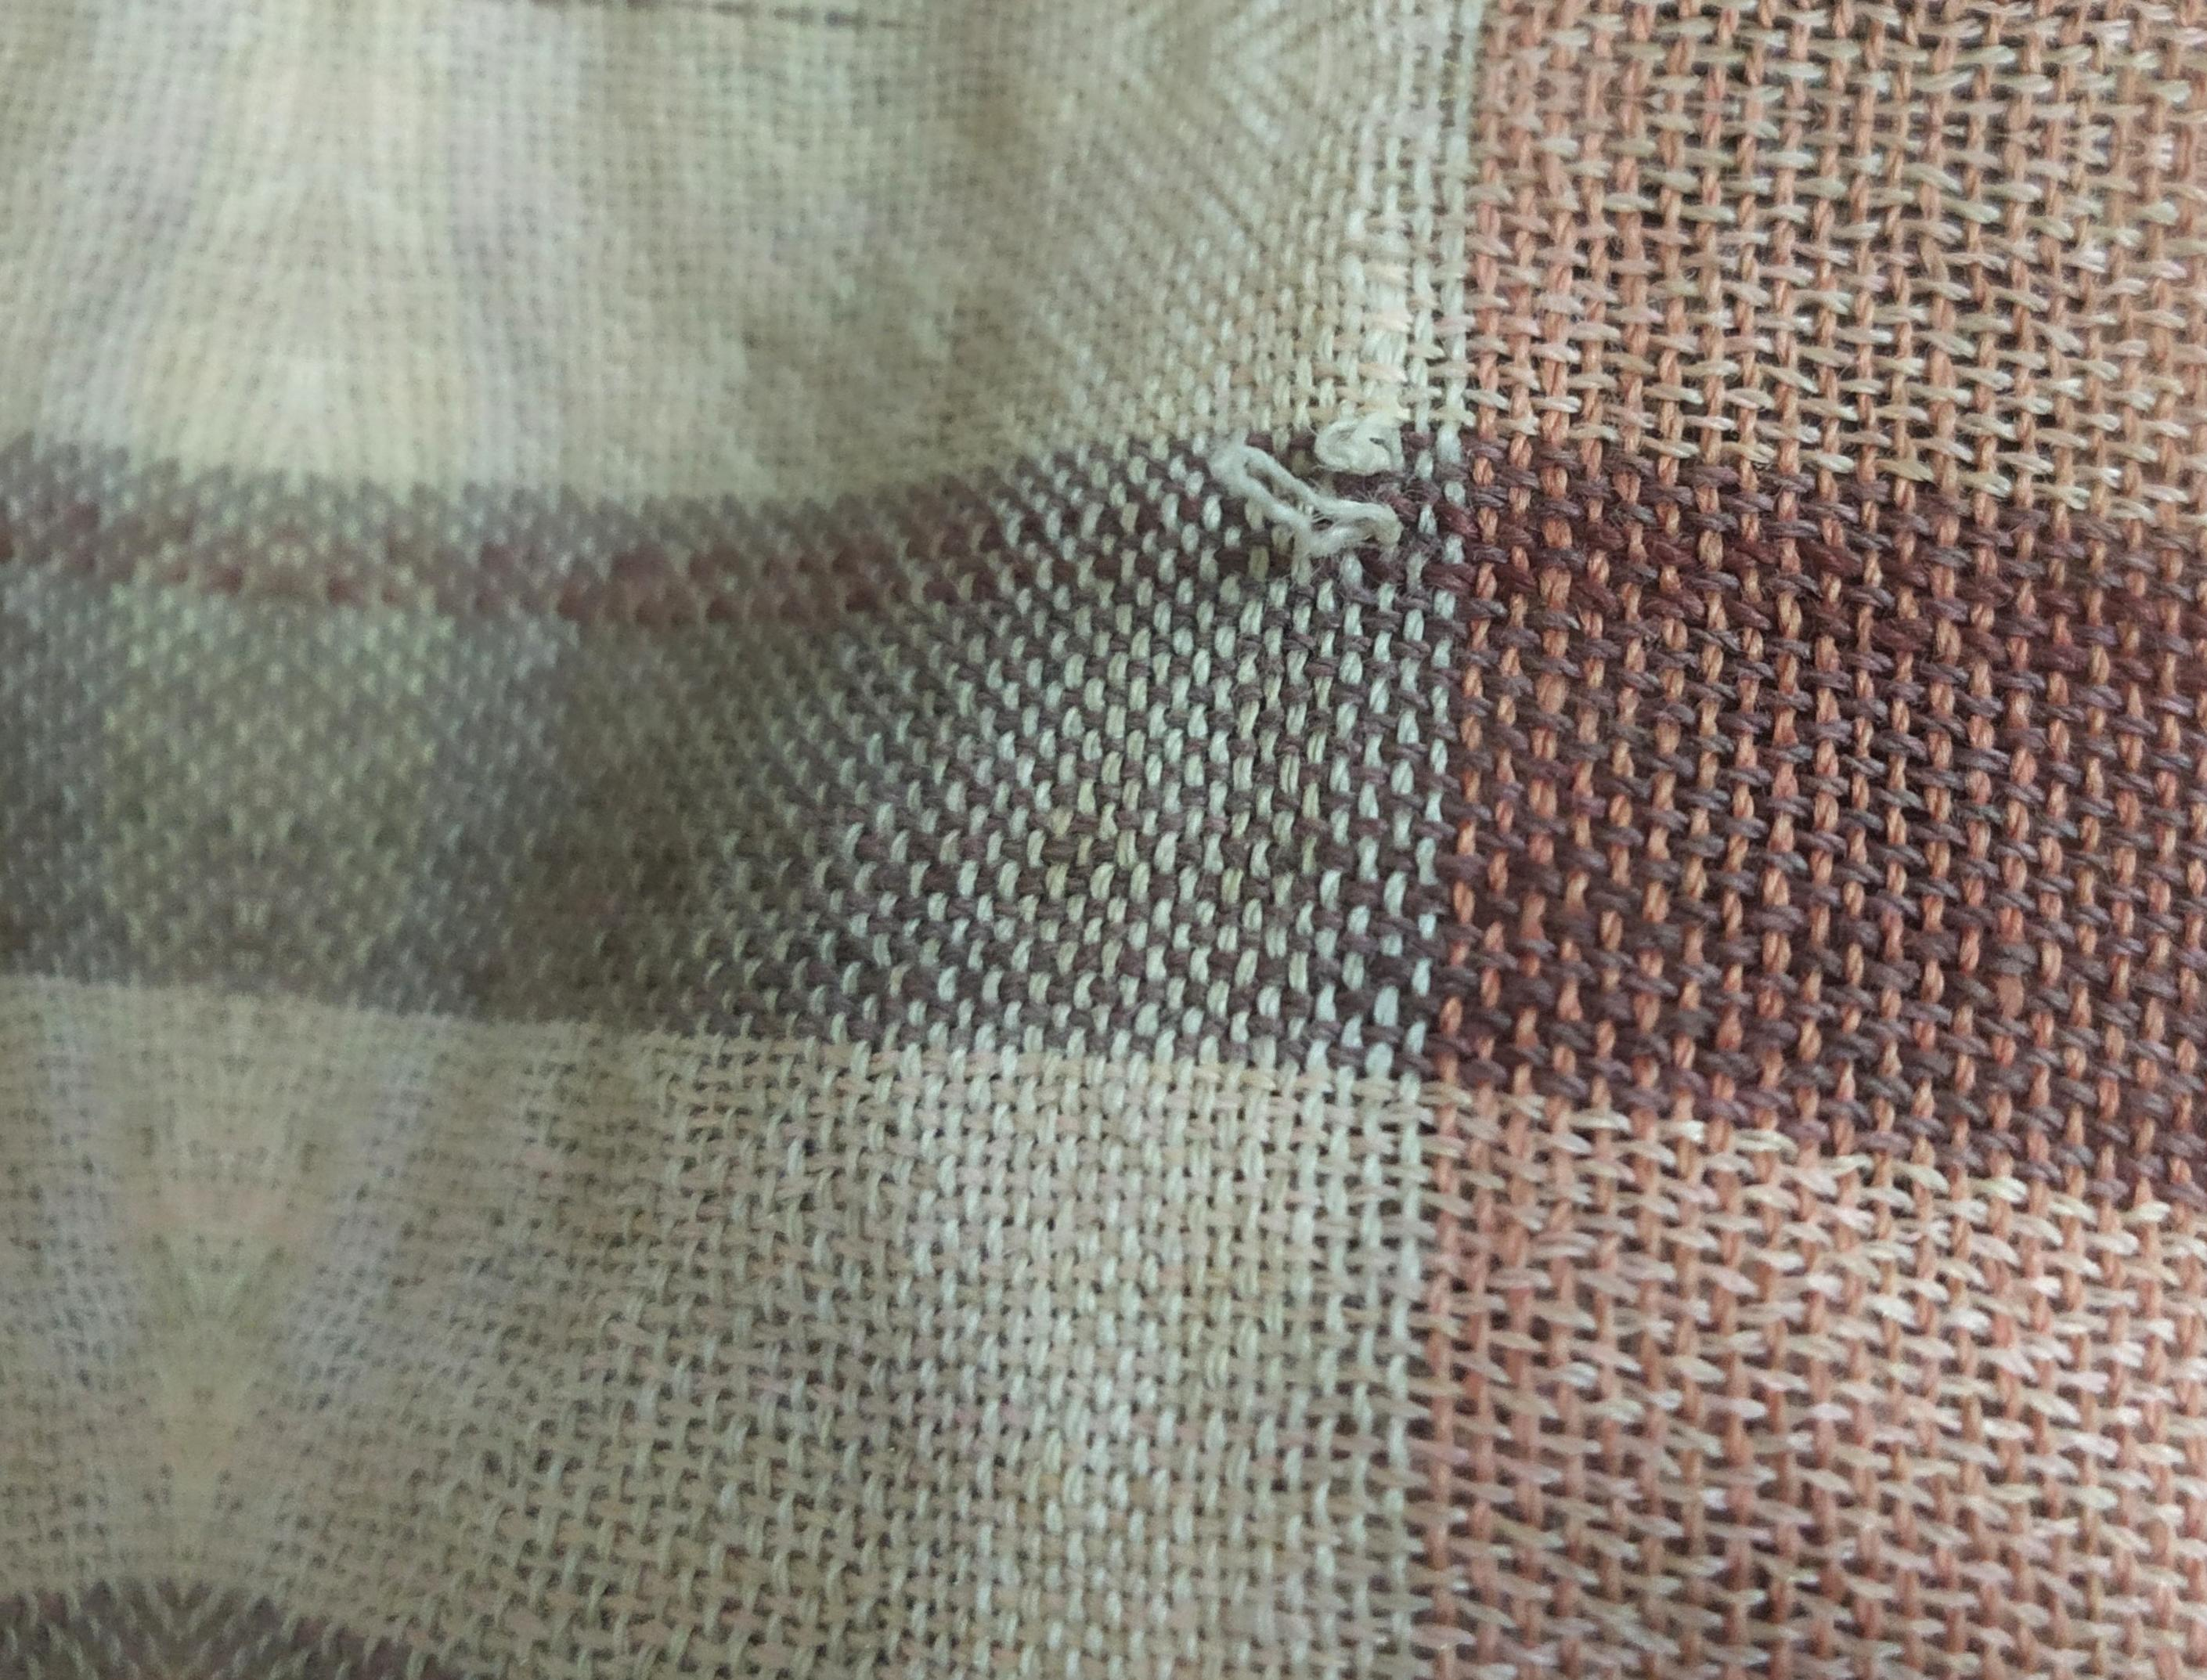snag: (1171, 381, 1501, 619)
